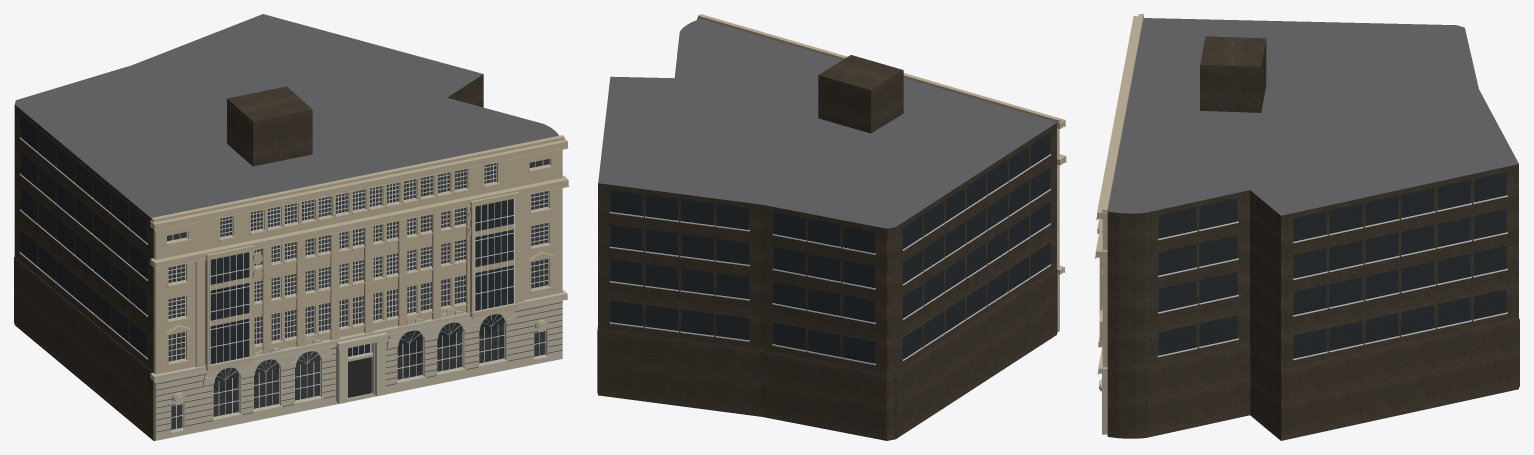
The model's file is t_barclay_hero_mobile.glb.
3 views of the same model, side by side, from view 1: azimuth 30°, elevation 25°; view 2: azimuth 150°, elevation 25°; view 3: azimuth 270°, elevation 25° (orthographic). The views are drawn at different scales.
Visible parts, largest first — view 1: HERO_body, HERO_cornice.001, HERO_glass, HERO_cartouche, HERO_fan_bar, HERO_rustication_groove, HERO_door_left; view 2: HERO_body, HERO_glass, HERO_fan_bar, HERO_cornice.001; view 3: HERO_body, HERO_glass, HERO_cornice.001, HERO_fan_bar, HERO_cartouche.
Boxes of the visible parts, box(x1,y1,x2,y2) form: HERO_body: box(14, 14, 558, 440); HERO_cornice.001: box(150, 135, 568, 374); HERO_glass: box(20, 115, 549, 429); HERO_cartouche: box(150, 290, 567, 440); HERO_fan_bar: box(19, 137, 550, 430); HERO_rustication_groove: box(156, 302, 562, 432); HERO_door_left: box(348, 357, 371, 397); HERO_body: box(597, 19, 1057, 440); HERO_glass: box(610, 132, 1050, 363); HERO_fan_bar: box(609, 154, 1050, 365); HERO_cornice.001: box(697, 14, 1066, 268); HERO_body: box(1107, 18, 1519, 440); HERO_glass: box(1158, 172, 1506, 358); HERO_cornice.001: box(1095, 14, 1143, 367); HERO_fan_bar: box(1157, 195, 1507, 360); HERO_cartouche: box(1097, 345, 1107, 434).
Bounding box in the file's own units: 38.64 × 24.43 × 34.67.
8 materials, 1 textured.
